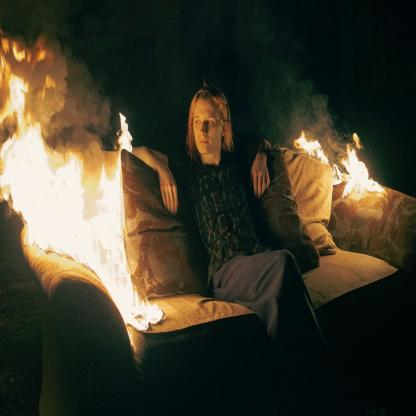fire: (1, 0, 348, 155), (0, 118, 164, 327), (293, 126, 383, 204)
